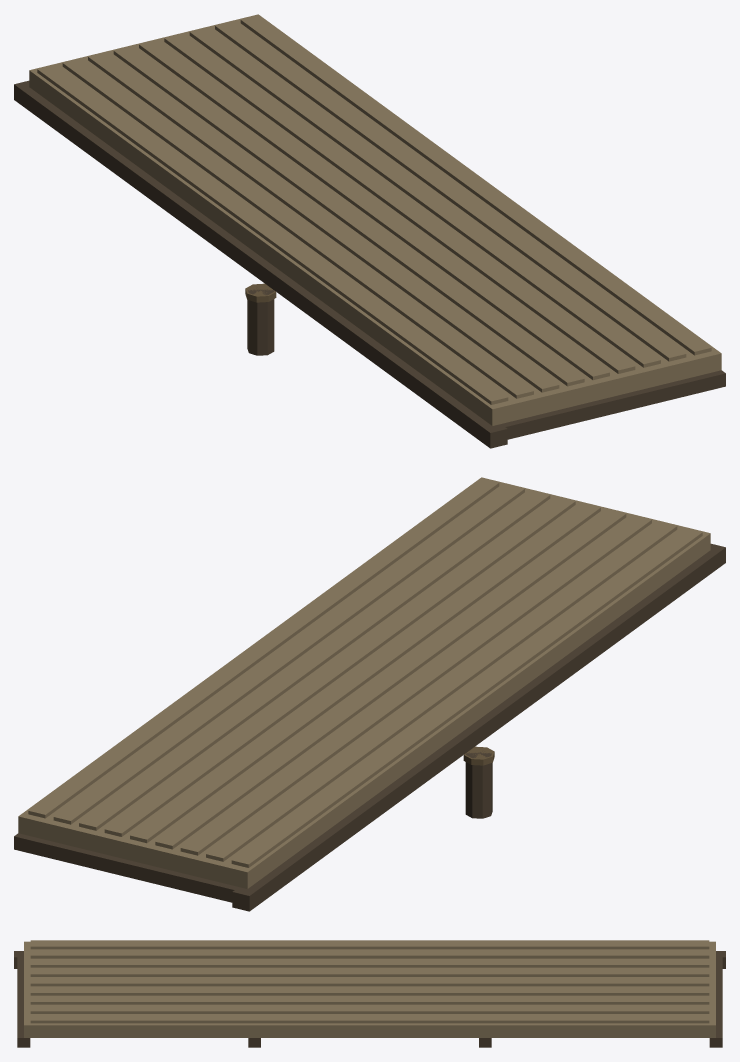
File: ponton-grand.glb
The picture shows the model from 3 angles, top to bottom: view 1: azimuth 30°, elevation 25°; view 2: azimuth 150°, elevation 25°; view 3: azimuth 270°, elevation 25°; orthographic projection. The views are drawn at different scales.
Parts seen in each view (by area): view 1: travee, pieu; view 2: travee, pieu; view 3: travee.
Part boxes in pixels (box(x1,y1,x2,y2)): travee: box(14, 14, 725, 448); pieu: box(247, 287, 274, 355); travee: box(14, 477, 725, 911); pieu: box(465, 751, 492, 818); travee: box(14, 940, 725, 1047).
Size of the model in its own units: 4.24 by 1.9 by 14.4.
